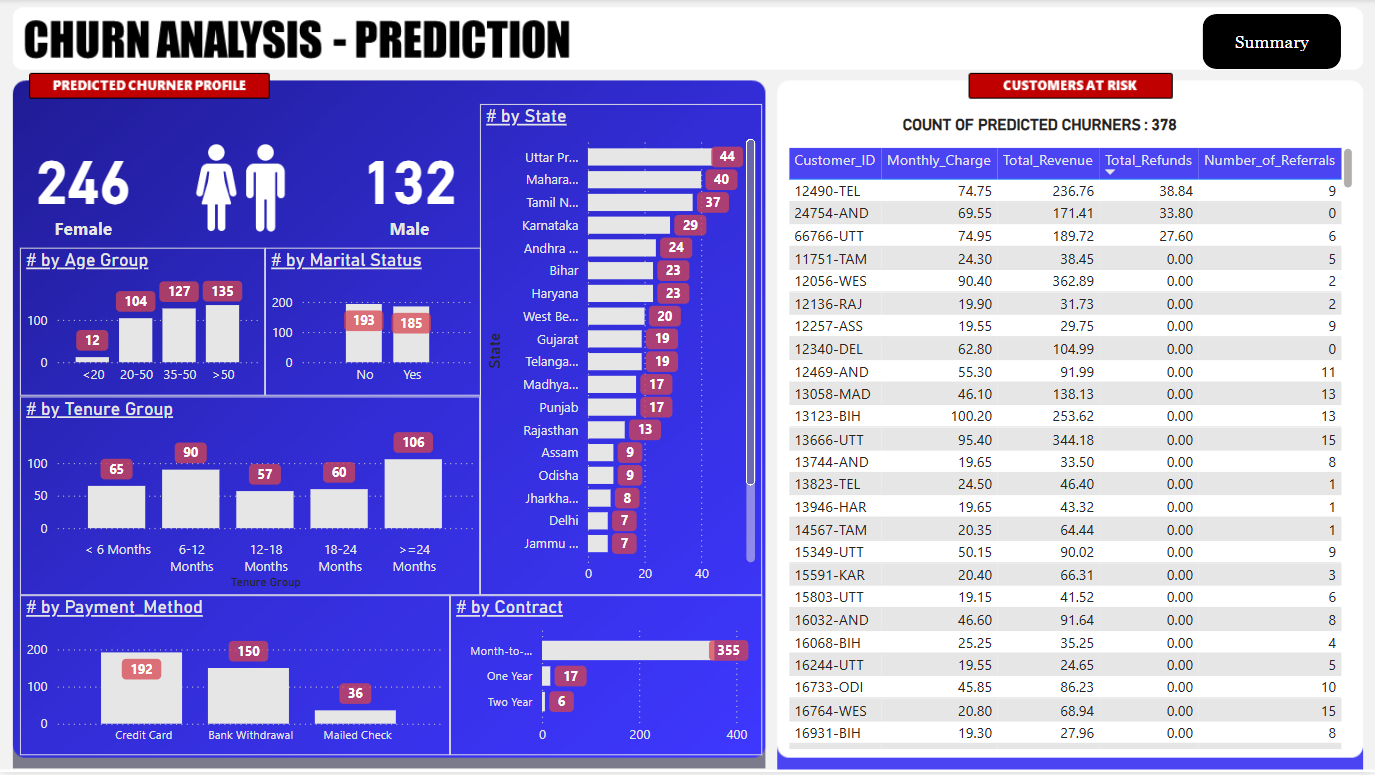

What the dashboard file says about the page in this screenshot:
{"tool":"powerbi","page":{"name":"Churn_Prediction","canvas":[1280,720],"ordinal":2},"visuals":[{"type":"tableEx","fields":{"Values":["Predictions.Customer_ID","Predictions.Monthly_Charge","Predictions.Total_Revenue","Predictions.Total_Refunds","Predictions.Number_of_Referrals"]},"box":[727.5,134.2,535.5,568.7],"z":0},{"type":"card","fields":{"Values":["tbl_measures.Title Predicted Churner"]},"box":[779.2,102.2,376.7,30.8],"z":1000},{"type":"card","fields":{"Values":["tbl_measures.Count Predicted Churner"]},"box":[18.5,118.2,118.2,113.3],"z":2000},{"type":"card","fields":{"Values":["tbl_measures.Count Predicted Churner"]},"box":[315.1,118.2,131.7,113.3],"z":3000},{"type":"clusteredColumnChart","fields":{"Category":["mapping_AgeGrp.Age Group"],"Y":["CountNonNull(Predictions.Customer_ID)"]},"box":[18.5,231.4,227.7,137.9],"z":4000},{"type":"clusteredColumnChart","fields":{"Category":["Predictions.Married"],"Y":["CountNonNull(Predictions.Customer_ID)"]},"box":[246.2,231.4,200.7,137.9],"z":5000},{"type":"clusteredColumnChart","fields":{"Y":["CountNonNull(Predictions.Customer_ID)"],"Category":["mapping_TenureGrp.Tenure Group"]},"box":[18.5,369.3,428.4,184.7],"z":6000},{"type":"clusteredColumnChart","fields":{"Y":["CountNonNull(Predictions.Customer_ID)"],"Category":["Predictions.Payment_Method"]},"box":[18.9,554.4,400,148.9],"z":7000},{"type":"clusteredBarChart","fields":{"Category":["Predictions.State"],"Y":["CountNonNull(Predictions.Customer_ID)"]},"box":[446.9,97.2,262.2,456.7],"z":8000},{"type":"clusteredBarChart","fields":{"Category":["Predictions.Contract"],"Y":["CountNonNull(Predictions.Customer_ID)"]},"box":[418.9,554.4,290,148.9],"z":9000},{"type":"image","box":[149,118.2,149,113.3],"z":10000},{"type":"shape","box":[1118.9,14.4,128.9,51.1],"z":11000}]}

Visuals, with their boxes in screenshot pixels (x1, y1, x2, y2), scaled from the page's 1280x720 canvas onto the 1375x775 screenshot:
tableEx - Predictions.Customer_ID x Predictions.Monthly_Charge: x1=781, y1=144, x2=1357, y2=757
card - tbl_measures.Title Predicted Churner: x1=837, y1=110, x2=1242, y2=143
card - tbl_measures.Count Predicted Churner: x1=20, y1=127, x2=147, y2=249
card - tbl_measures.Count Predicted Churner: x1=338, y1=127, x2=480, y2=249
clusteredColumnChart - mapping_AgeGrp.Age Group x CountNonNull(Predictions.Customer_ID): x1=20, y1=249, x2=264, y2=398
clusteredColumnChart - Predictions.Married x CountNonNull(Predictions.Customer_ID): x1=264, y1=249, x2=480, y2=398
clusteredColumnChart - CountNonNull(Predictions.Customer_ID) x mapping_TenureGrp.Tenure Group: x1=20, y1=398, x2=480, y2=596
clusteredColumnChart - CountNonNull(Predictions.Customer_ID) x Predictions.Payment_Method: x1=20, y1=597, x2=450, y2=757
clusteredBarChart - Predictions.State x CountNonNull(Predictions.Customer_ID): x1=480, y1=105, x2=762, y2=596
clusteredBarChart - Predictions.Contract x CountNonNull(Predictions.Customer_ID): x1=450, y1=597, x2=762, y2=757
image: x1=160, y1=127, x2=320, y2=249
shape: x1=1202, y1=16, x2=1340, y2=71
